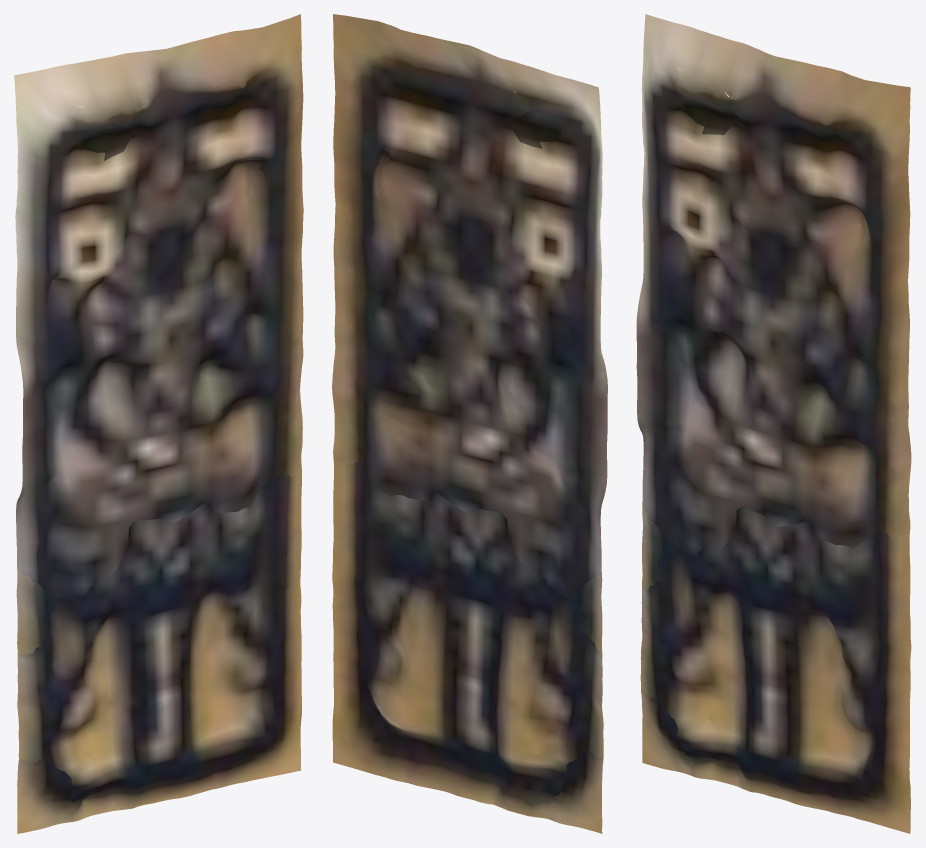
File: wall_art.glb
3 renders of one model, left to right at view 1: azimuth 30°, elevation 25°; view 2: azimuth 150°, elevation 25°; view 3: azimuth 330°, elevation 25°, orthographic.
Parts seen in each view (by area): view 1: Scaniverseobjcleanermaterialmergergles; view 2: Scaniverseobjcleanermaterialmergergles; view 3: Scaniverseobjcleanermaterialmergergles.
Part boxes in pixels (<box>): Scaniverseobjcleanermaterialmergergles: <box>14,14,303,833</box>; Scaniverseobjcleanermaterialmergergles: <box>332,14,607,833</box>; Scaniverseobjcleanermaterialmergergles: <box>636,14,911,833</box>.
Size of the model in its own units: 0.206 by 0.5362 by 0.0309.
Materials: 1 (1 with a texture image).
